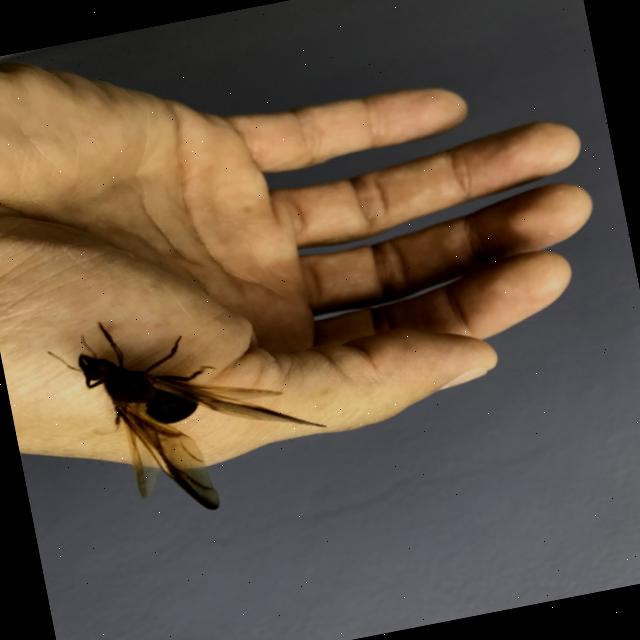Alive-Female-Alate: (44, 282, 338, 536)
